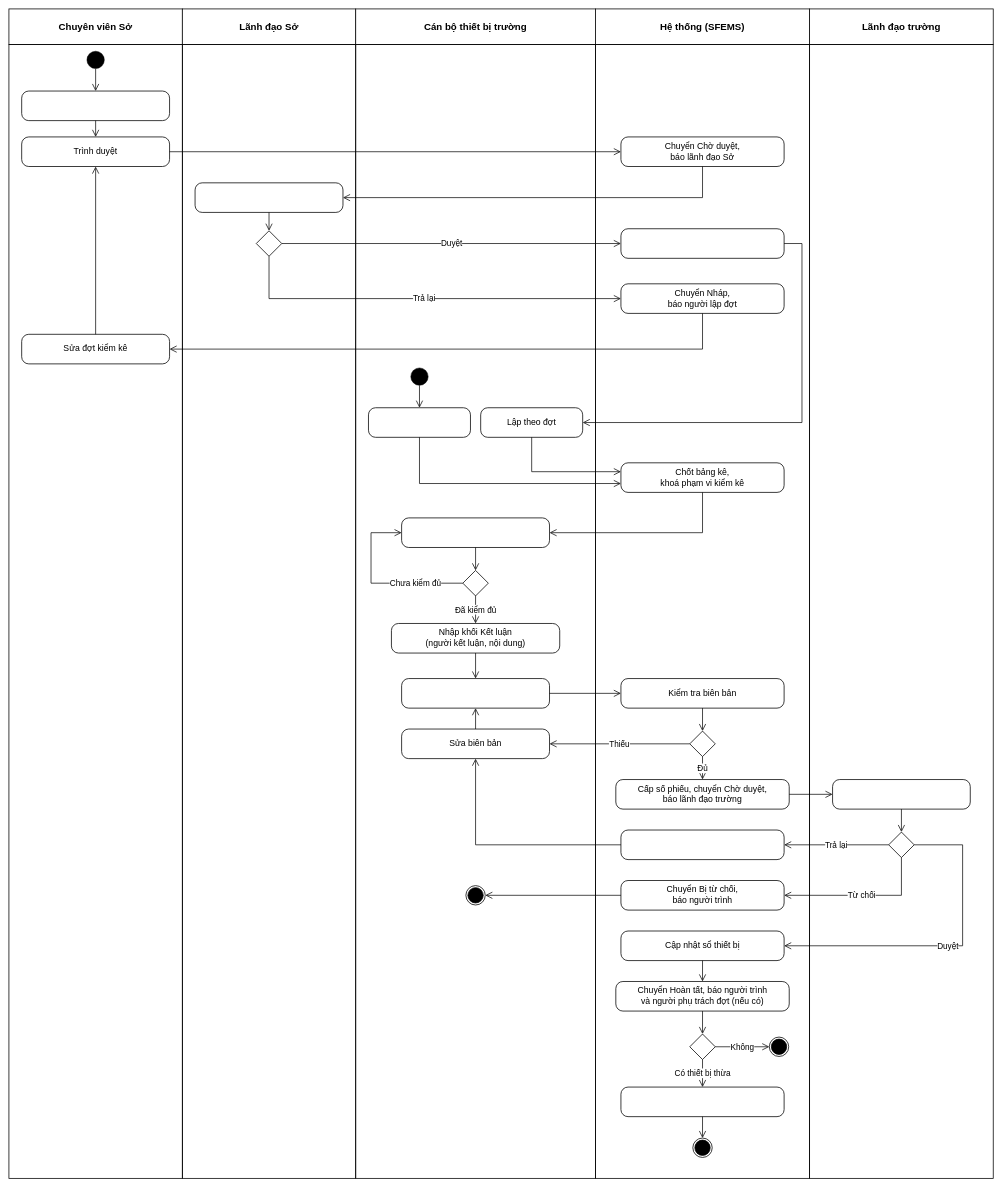
Image size: 1003x1188. Some labels were removed from this diagram. Each missing label, with the centre of its shape:
"Chuyển Nháp (Bị trả về), báo người trình" belongs at pixel 702 844.
"Ghi kết quả kiểm đếm theo từng phòng" belongs at pixel 475 532.
"Lập phiếu ghi tăng nháp (BF-03)" belongs at pixel 702 1101.
"Lập đợt kiểm kê" belongs at pixel 95 105.
"Phát động đợt, báo các trường và người lập đợt" belongs at pixel 702 243.
"Trình biên bản" belongs at pixel 475 693.
"Tự lập phiếu" belongs at pixel 419 422.
"Xem xét biên bản" belongs at pixel 901 794.
"Xem xét đợt kiểm kê" belongs at pixel 268 197.
